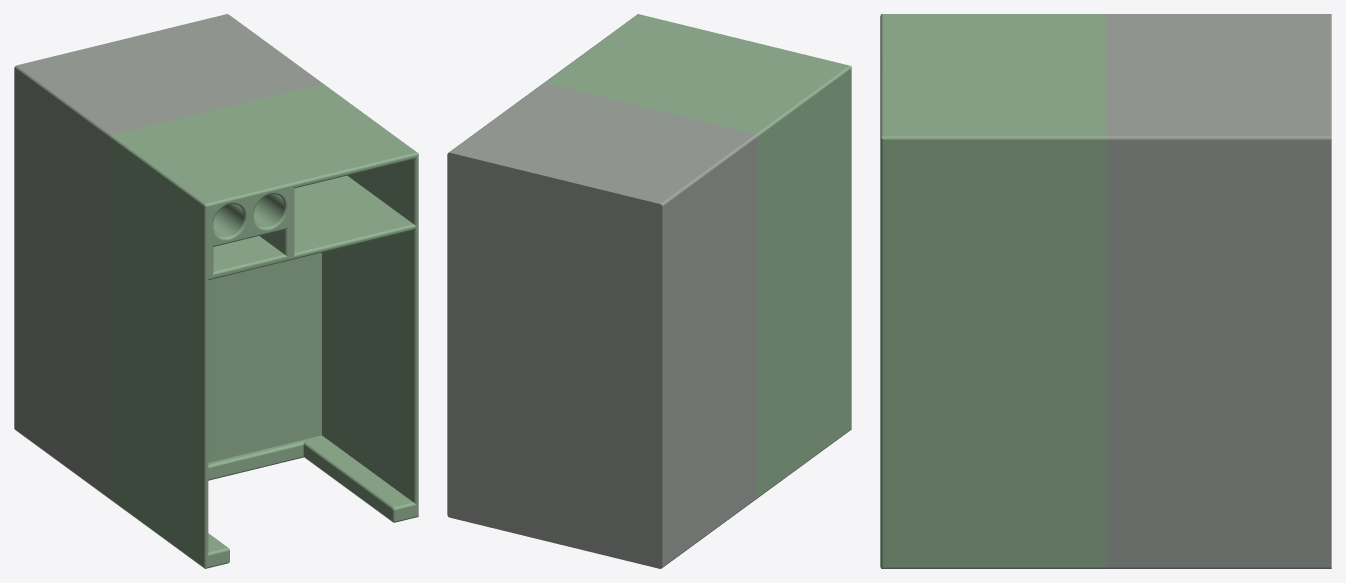
The model's file is card_caddy_stacked.glb.
3 views of the same model, side by side, from view 1: azimuth 30°, elevation 25°; view 2: azimuth 150°, elevation 25°; view 3: azimuth 270°, elevation 25° (orthographic). The views are drawn at different scales.
Parts seen in each view (by area): view 1: Top\top, Bottom\Bottom; view 2: Bottom\Bottom, Top\top; view 3: Bottom\Bottom, Top\top.
Part boxes in pixels (box(x1,y1,x2,y2)): Top\top: box(109, 83, 418, 568); Bottom\Bottom: box(14, 14, 322, 498); Bottom\Bottom: box(447, 83, 757, 568); Top\top: box(544, 14, 851, 498); Bottom\Bottom: box(1106, 14, 1331, 568); Top\top: box(880, 14, 1105, 568).
Bounding box in the file's own units: 90 × 146 × 138.
